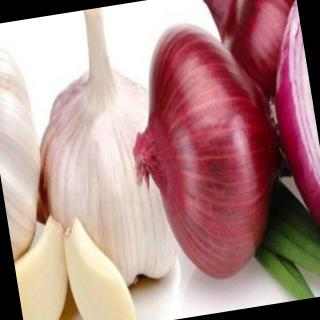Bawang Merah: (1, 1, 320, 320), (113, 10, 303, 291), (12, 3, 183, 300)
